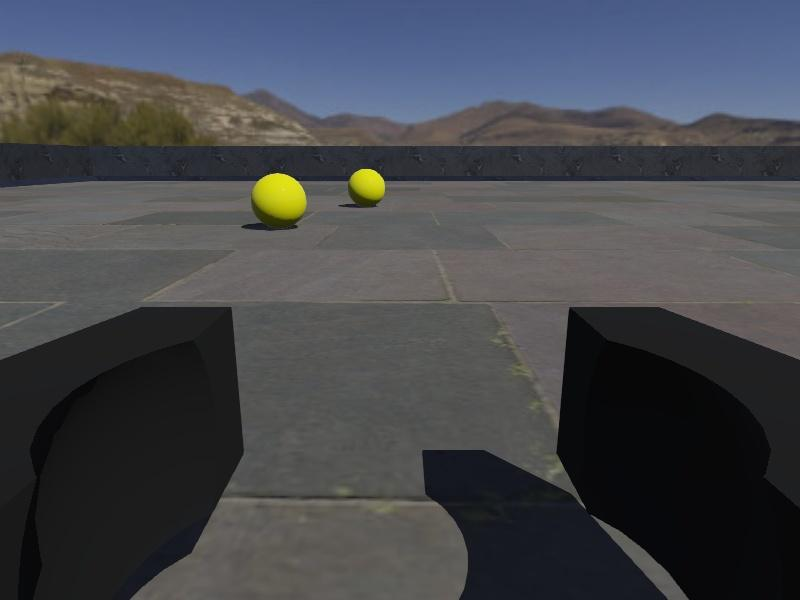yellow ball: (251, 172, 308, 228), (348, 168, 387, 206)
